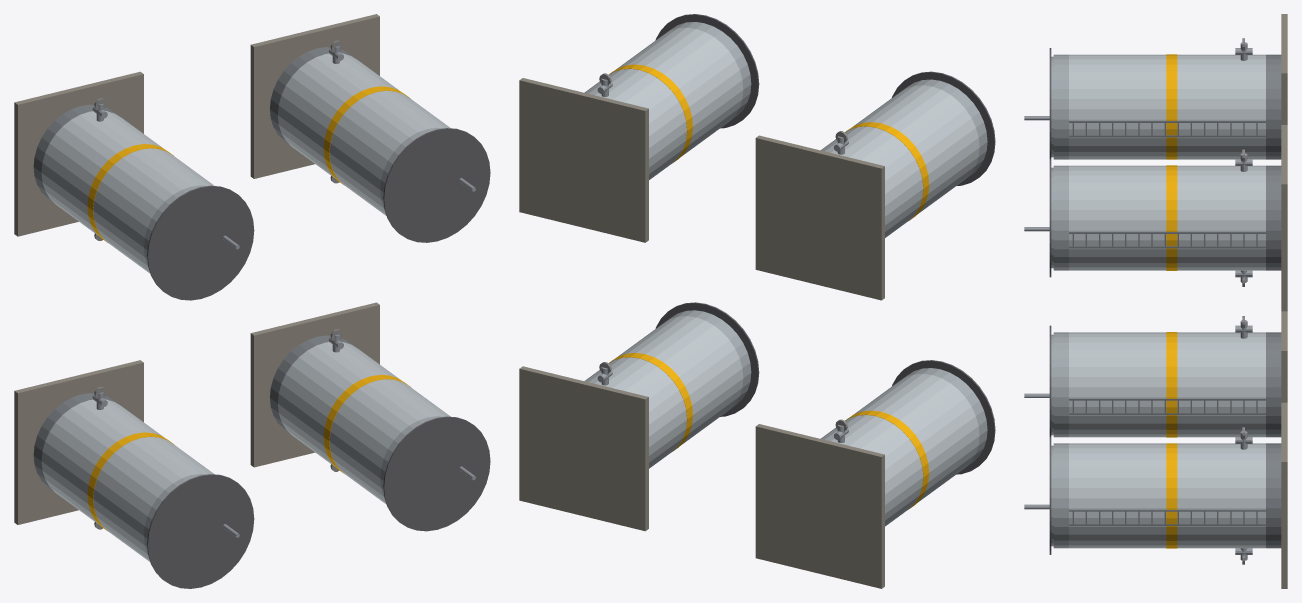
The model's file is EQ_01_TANKS.obj.
3 renders of one model, left to right at view 1: azimuth 30°, elevation 25°; view 2: azimuth 150°, elevation 25°; view 3: azimuth 270°, elevation 25°, orthographic. The views are drawn at different scales.
Visible parts, largest first — view 1: TANK_T01_Shell.001, TANK_T03_Shell, TANK_T02_Shell, TANK_T04_Shell, TANK_T04_TopPlatform, TANK_T01_TopPlatform, TANK_T02_TopPlatform, TANK_T03_TopPlatform, TANK_T02_EquipPad, TANK_T04_EquipPad, TANK_T03_EquipPad, TANK_T01_EquipPad (+8 smaller); view 2: TANK_T01_EquipPad, TANK_T02_EquipPad, TANK_T03_EquipPad, TANK_T04_EquipPad, TANK_T01_Shell.001, TANK_T03_Shell, TANK_T04_Shell, TANK_T02_Shell, TANK_T02_TopPlatform, TANK_T01_TopPlatform, TANK_T03_TopPlatform, TANK_T04_TopPlatform (+8 smaller); view 3: TANK_T04_Shell, TANK_T02_Shell, TANK_T03_Shell, TANK_T01_Shell.001, TANK_T01_Skirt_Outer, TANK_T01_TopDome, TANK_T02_Skirt_Outer, TANK_T02_TopDome, TANK_T03_Skirt_Outer, TANK_T03_TopDome, TANK_T04_Skirt_Outer, TANK_T04_TopDome (+18 smaller).
Part boxes in pixels (x1,y1,x2,y2): TANK_T01_Shell.001: [41, 111, 214, 273]; TANK_T03_Shell: [41, 399, 214, 561]; TANK_T02_Shell: [278, 53, 450, 215]; TANK_T04_Shell: [278, 342, 450, 504]; TANK_T04_TopPlatform: [383, 416, 490, 531]; TANK_T01_TopPlatform: [147, 185, 254, 300]; TANK_T02_TopPlatform: [383, 128, 490, 242]; TANK_T03_TopPlatform: [147, 474, 254, 588]; TANK_T02_EquipPad: [250, 14, 379, 178]; TANK_T04_EquipPad: [250, 302, 379, 467]; TANK_T03_EquipPad: [14, 360, 143, 524]; TANK_T01_EquipPad: [14, 71, 143, 236]; TANK_T01_EquipPad: [755, 135, 884, 300]; TANK_T02_EquipPad: [519, 78, 648, 242]; TANK_T03_EquipPad: [755, 424, 884, 588]; TANK_T04_EquipPad: [519, 366, 648, 531]; TANK_T01_Shell.001: [820, 85, 979, 237]; TANK_T03_Shell: [820, 373, 979, 526]; TANK_T04_Shell: [584, 316, 743, 468]; TANK_T02_Shell: [584, 27, 743, 179]; TANK_T02_TopPlatform: [655, 14, 759, 128]; TANK_T01_TopPlatform: [892, 71, 995, 185]; TANK_T03_TopPlatform: [892, 360, 995, 474]; TANK_T04_TopPlatform: [655, 302, 759, 416]; TANK_T04_Shell: [1069, 443, 1265, 548]; TANK_T02_Shell: [1069, 165, 1265, 270]; TANK_T03_Shell: [1069, 332, 1265, 437]; TANK_T01_Shell.001: [1069, 54, 1265, 159]; TANK_T01_Skirt_Outer: [1266, 54, 1281, 159]; TANK_T01_TopDome: [1053, 54, 1068, 159]; TANK_T02_Skirt_Outer: [1266, 165, 1281, 270]; TANK_T02_TopDome: [1053, 165, 1068, 270]; TANK_T03_Skirt_Outer: [1266, 332, 1281, 437]; TANK_T03_TopDome: [1053, 332, 1068, 437]; TANK_T04_Skirt_Outer: [1266, 443, 1281, 548]; TANK_T04_TopDome: [1053, 443, 1068, 548].
Size of the model in its own units: 9.2 by 10.44 by 6.02.
